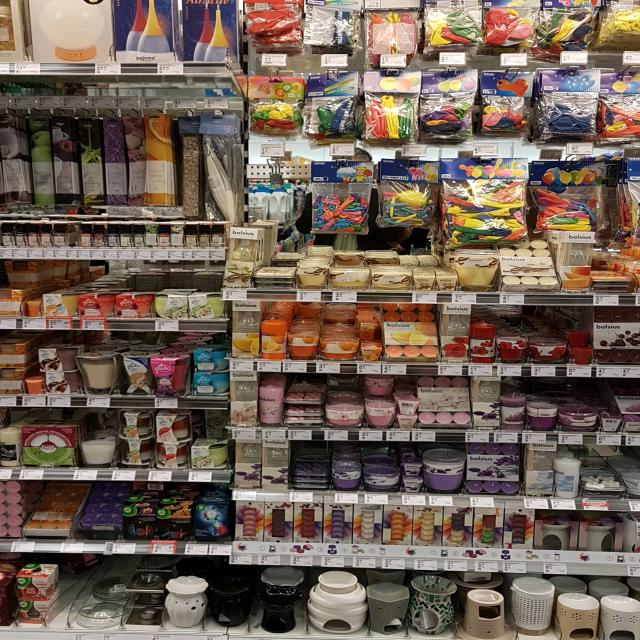unorganised: (1, 115, 144, 205), (553, 461, 582, 503), (80, 412, 120, 441), (2, 259, 34, 289), (193, 412, 228, 439), (330, 377, 363, 403), (366, 377, 394, 401), (402, 451, 422, 478), (359, 322, 380, 345), (333, 253, 363, 269)
